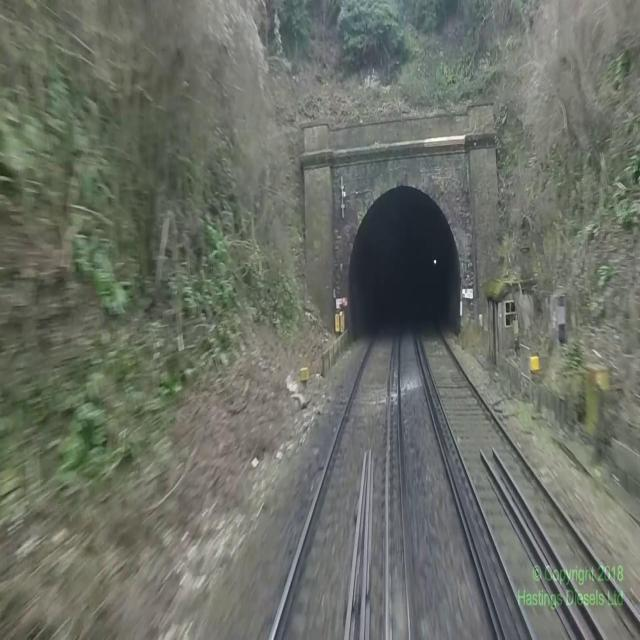rail-track: (419, 324, 640, 639), (273, 322, 396, 639)
